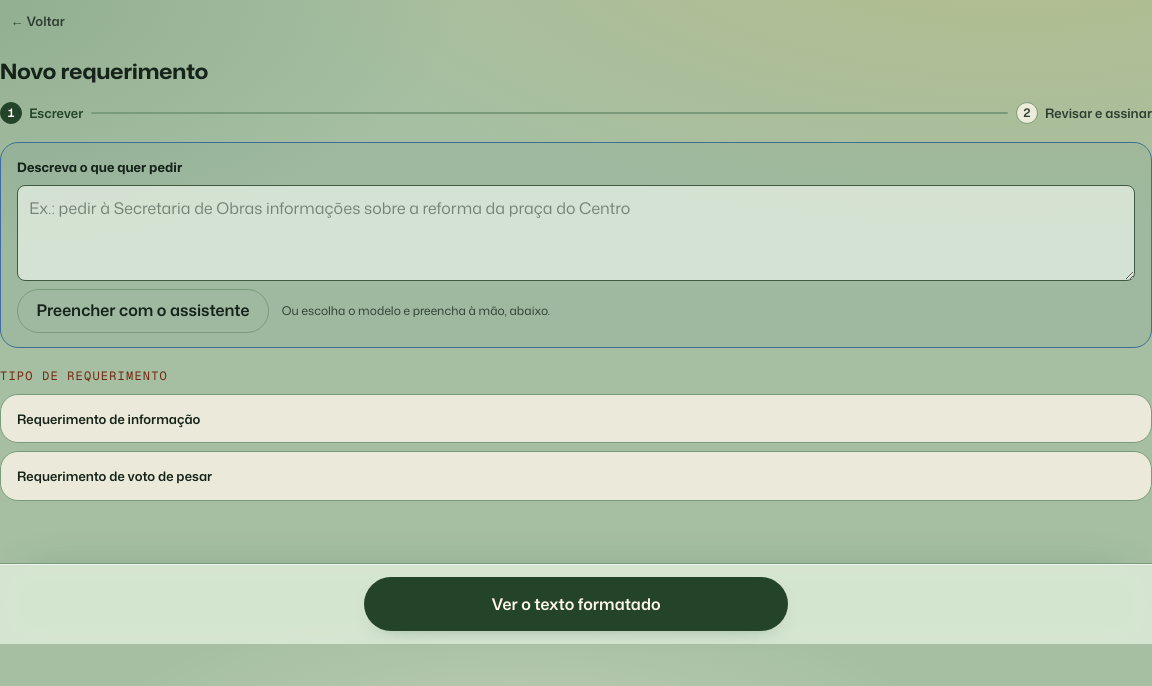
Test: Novo requerimento — o copiloto (B.7) › descrever em palavras preenche o formulário, e a justificativa vem com selo e de onde veio
Replace the text in the text box labelled "Descreva o que quer pedir" with "pedir à Secretaria de Obras informações sobre a obra da praça" at (576, 233), box [17, 185, 1135, 281]
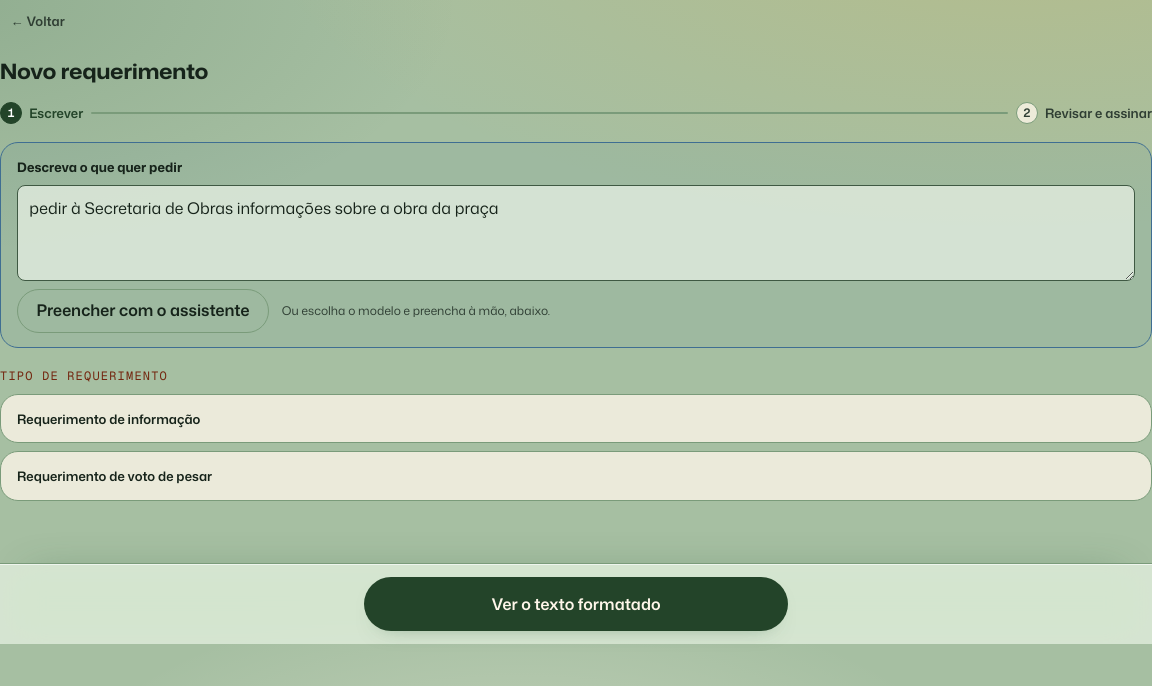
Click the button "Preencher com o assistente" at (143, 311), box [17, 289, 269, 333]
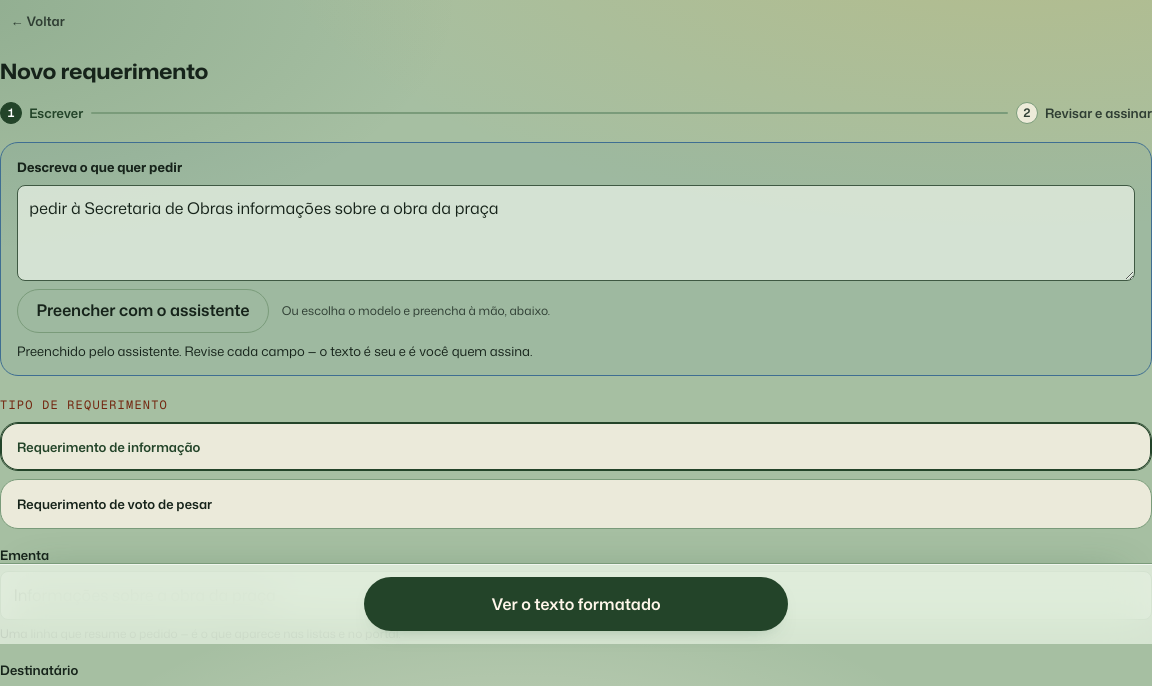
Expected: the field labelled "Ementa" holds "Informações sobre a obra da praça", [0, 570, 1151, 620]
Expected: the radio button labelled "Requerimento de informação" is checked, [0, 422, 1151, 471]
Expected: the text "Revise cada campo" is shown, [17, 342, 532, 360]
